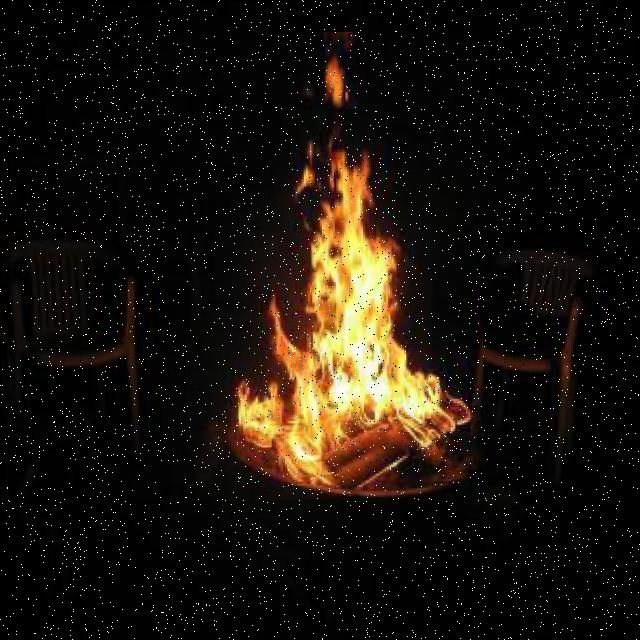fire: (185, 29, 485, 501)
